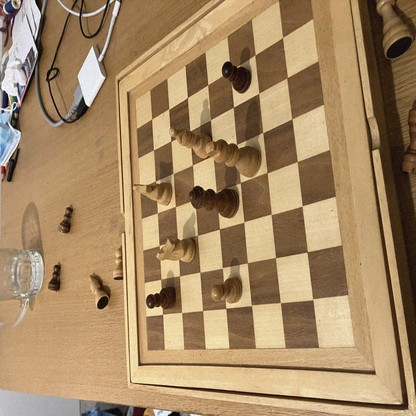bishop_white: (170, 128, 214, 159)
king_white: (207, 142, 261, 175)
knight_white: (156, 238, 195, 262), (132, 183, 172, 204)
pawn_black: (222, 62, 251, 92), (148, 286, 176, 309), (59, 206, 72, 231), (49, 266, 60, 291)
pawn_white: (212, 279, 242, 302), (114, 247, 124, 279)
queen_black: (189, 187, 239, 217)
queen_white: (89, 274, 109, 309)
